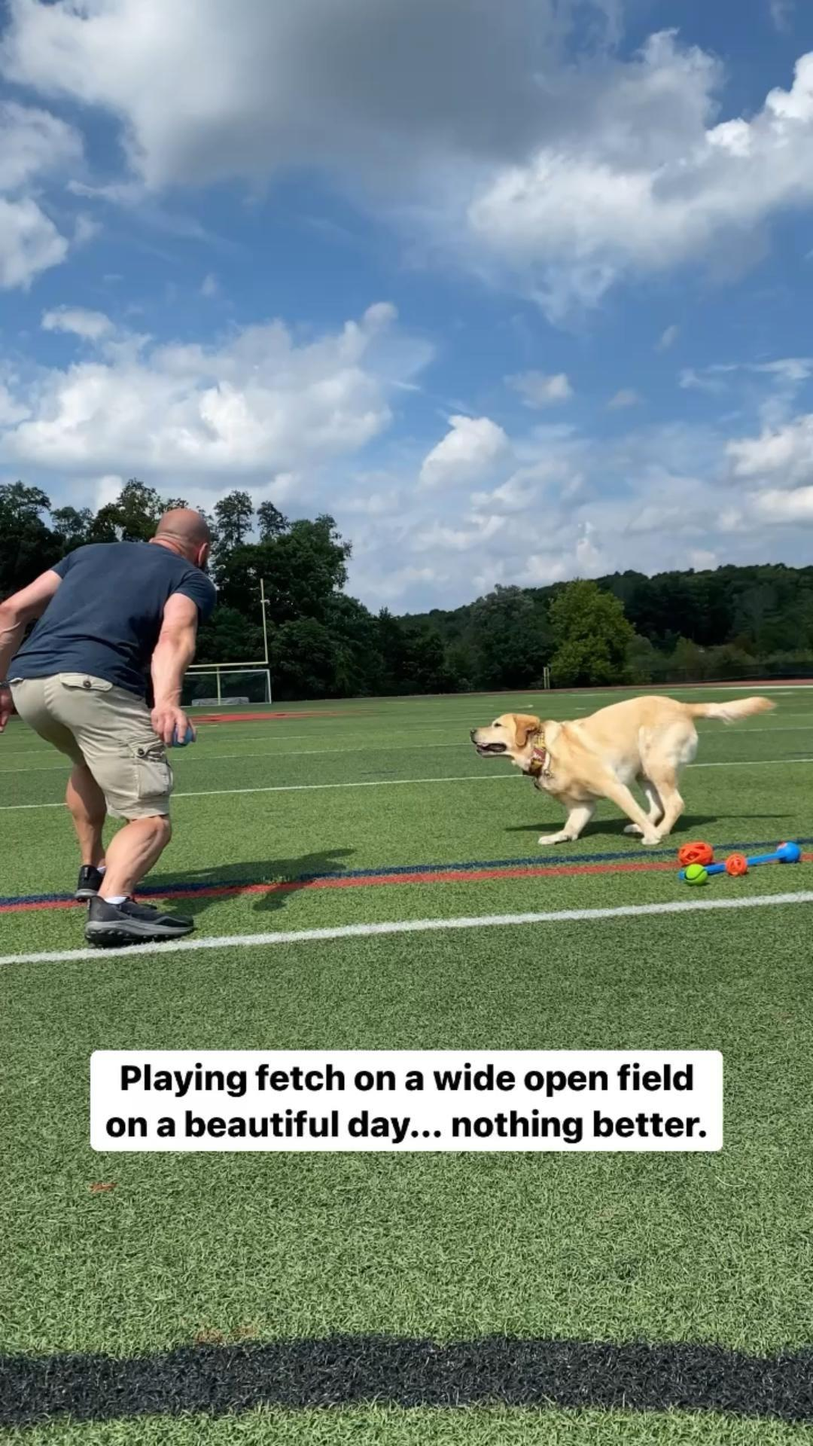adult_dog: (470, 692, 780, 847)
non-dog: (0, 508, 219, 949)
